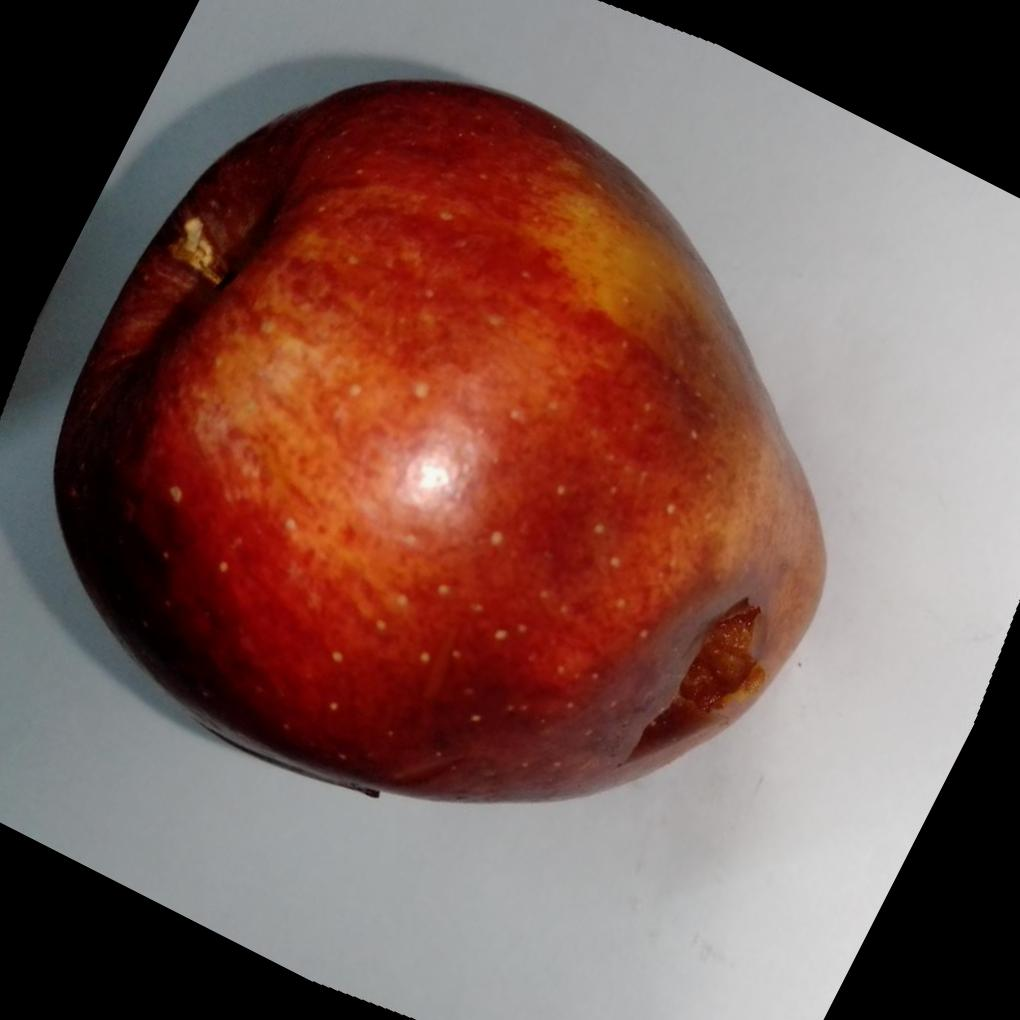FreshOrange: (51, 75, 829, 803)
